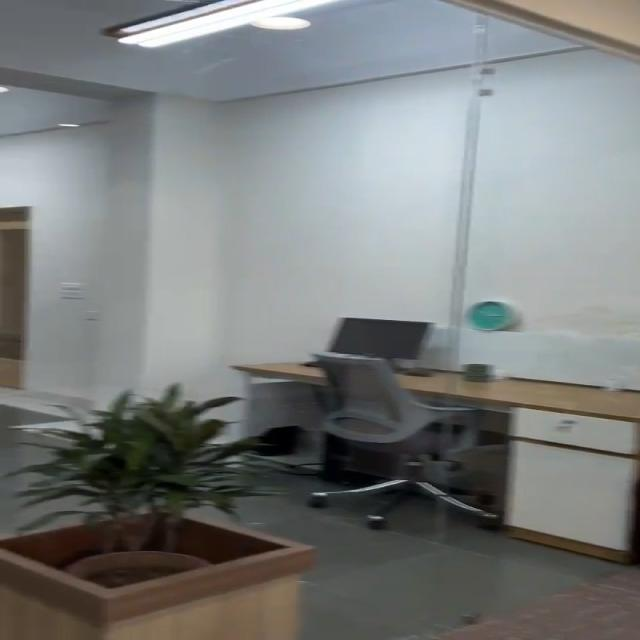floor: (318, 512, 640, 640)
furniture: (14, 396, 308, 640), (449, 349, 640, 548), (310, 346, 464, 514), (307, 304, 437, 397)
wall: (6, 100, 640, 306)
